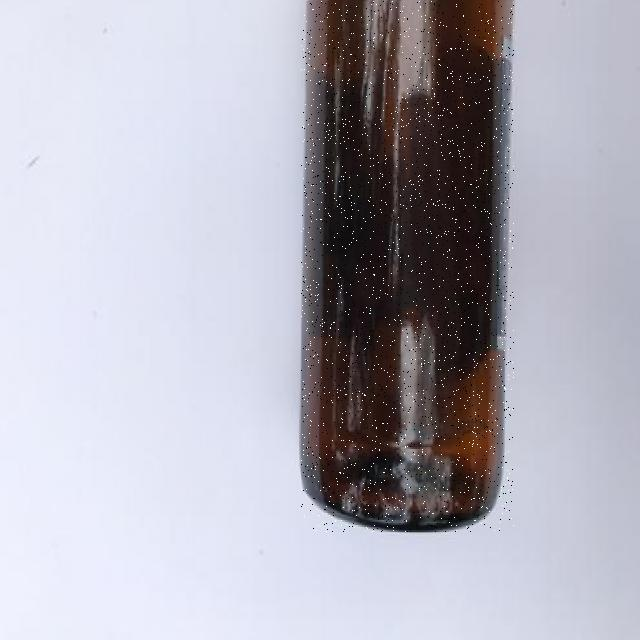glass: (302, 1, 514, 531)
